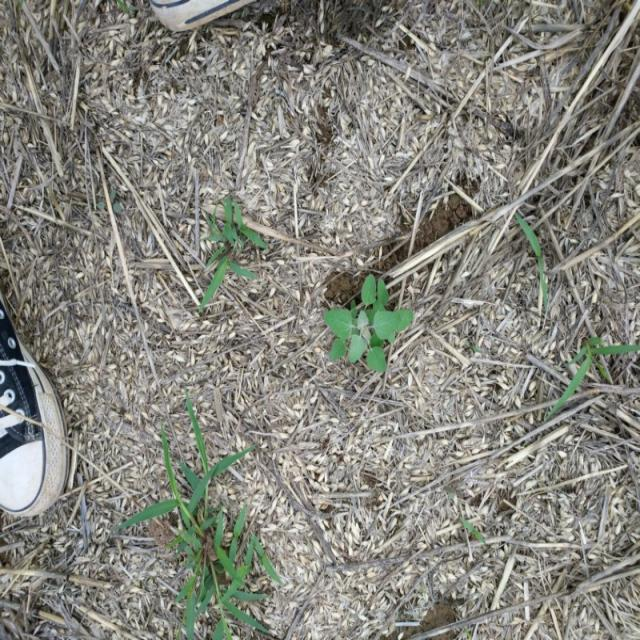goosefoots: (314, 270, 434, 391)
